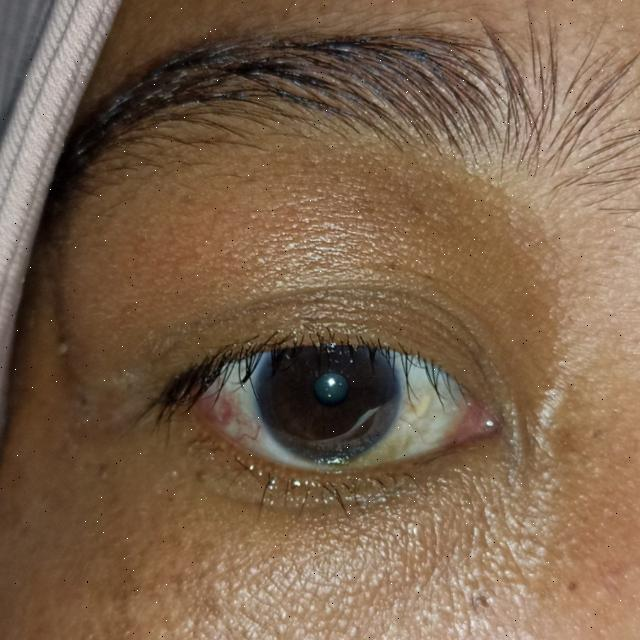Cataract: (254, 322, 396, 461)
